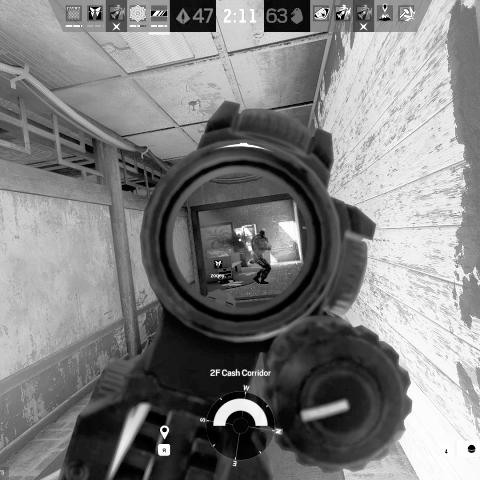Character: (250, 229, 272, 285)
Friend_label: (210, 258, 226, 278)
Head: (260, 230, 266, 237)
